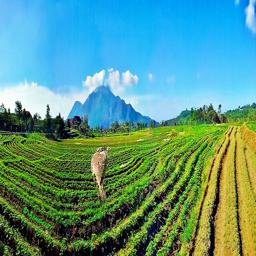Cuckoo: (91, 147, 111, 204)
